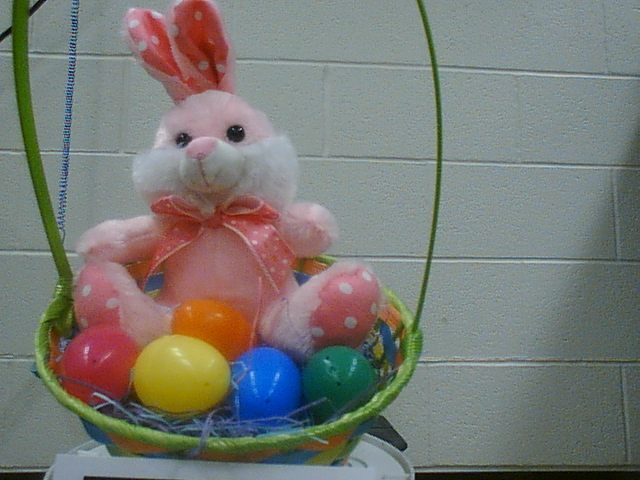bunny: (1, 1, 447, 469)
